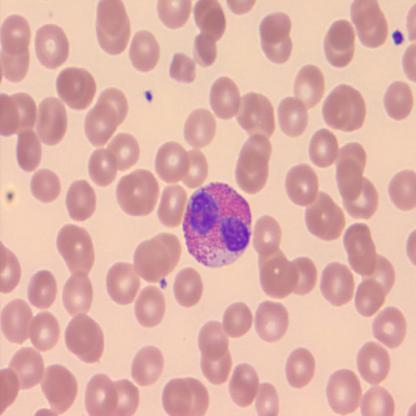Eosinophil: (182, 182, 252, 268)
